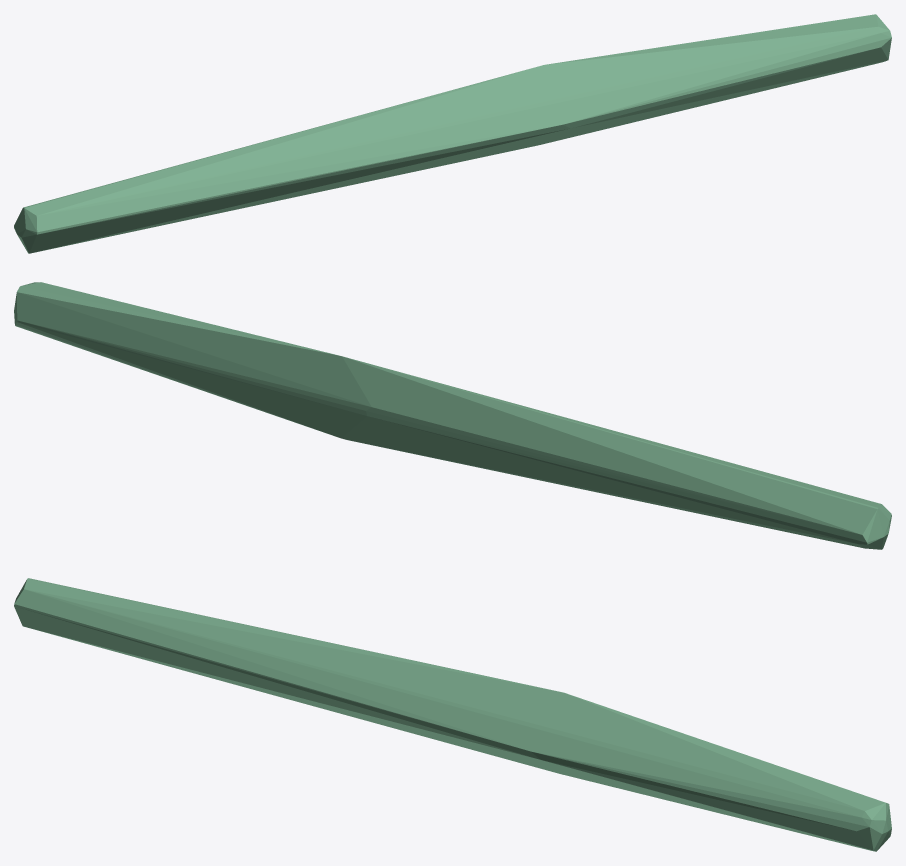
Rendered from drivetrain_drive_shaft_b01.glb.
The picture shows the model from 3 angles, top to bottom: view 1: azimuth 30°, elevation 25°; view 2: azimuth 150°, elevation 25°; view 3: azimuth 330°, elevation 25°; orthographic projection. The views are drawn at different scales.
Parts seen in each view (by area): view 1: geometry_0; view 2: geometry_0; view 3: geometry_0.
Boxes of the visible parts, x1=… form: geometry_0: x1=14, y1=14, x2=891, y2=253; geometry_0: x1=14, y1=282, x2=891, y2=549; geometry_0: x1=14, y1=578, x2=891, y2=851.
Size of the model in its own units: 0.4797 by 0.0427 by 0.0395.
